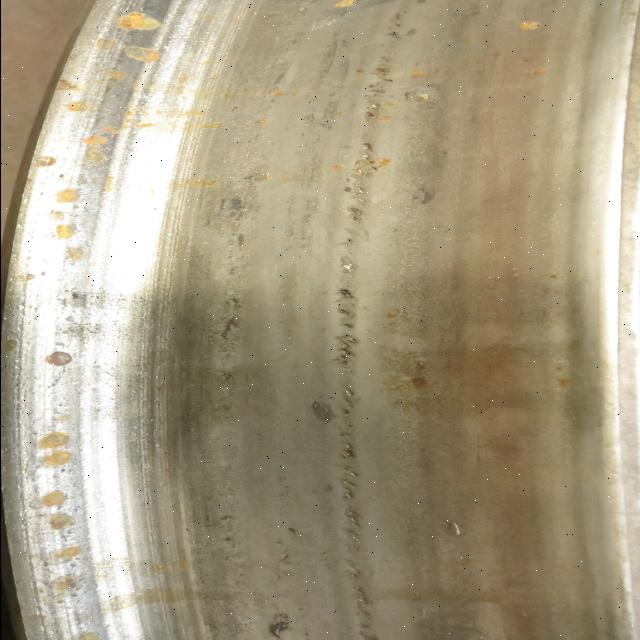boli: (333, 431, 384, 640), (355, 3, 427, 122), (327, 278, 369, 412), (336, 143, 382, 241)
